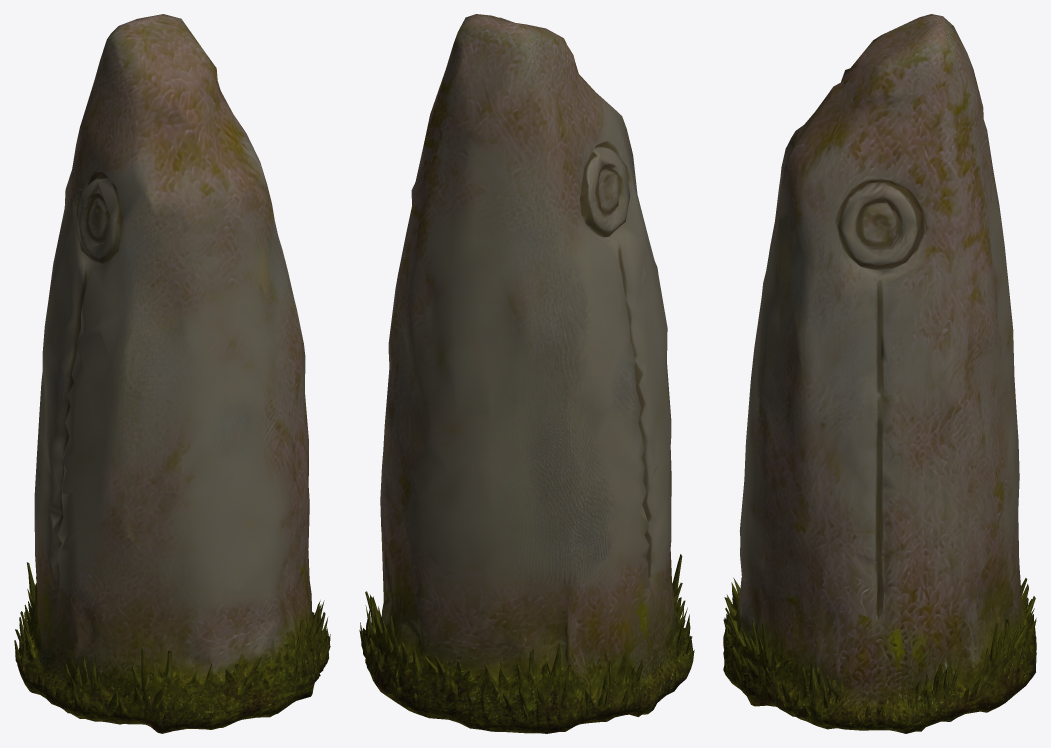
The model's file is steppe-stone-tripo.glb.
3 views of the same model, side by side, from view 1: azimuth 30°, elevation 25°; view 2: azimuth 150°, elevation 25°; view 3: azimuth 270°, elevation 25° (orthographic). The views are drawn at different scales.
Visible parts, largest first — view 1: tripo_node_726840d9-16e6-45ff-a7f8-83886afa8f9e; view 2: tripo_node_726840d9-16e6-45ff-a7f8-83886afa8f9e; view 3: tripo_node_726840d9-16e6-45ff-a7f8-83886afa8f9e.
Part boxes in pixels (<box>): tripo_node_726840d9-16e6-45ff-a7f8-83886afa8f9e: <box>14,14,330,733</box>; tripo_node_726840d9-16e6-45ff-a7f8-83886afa8f9e: <box>359,14,694,733</box>; tripo_node_726840d9-16e6-45ff-a7f8-83886afa8f9e: <box>723,14,1036,733</box>.
Size of the model in its own units: 0.4487 by 1 by 0.44.
1 material, 1 textured.
